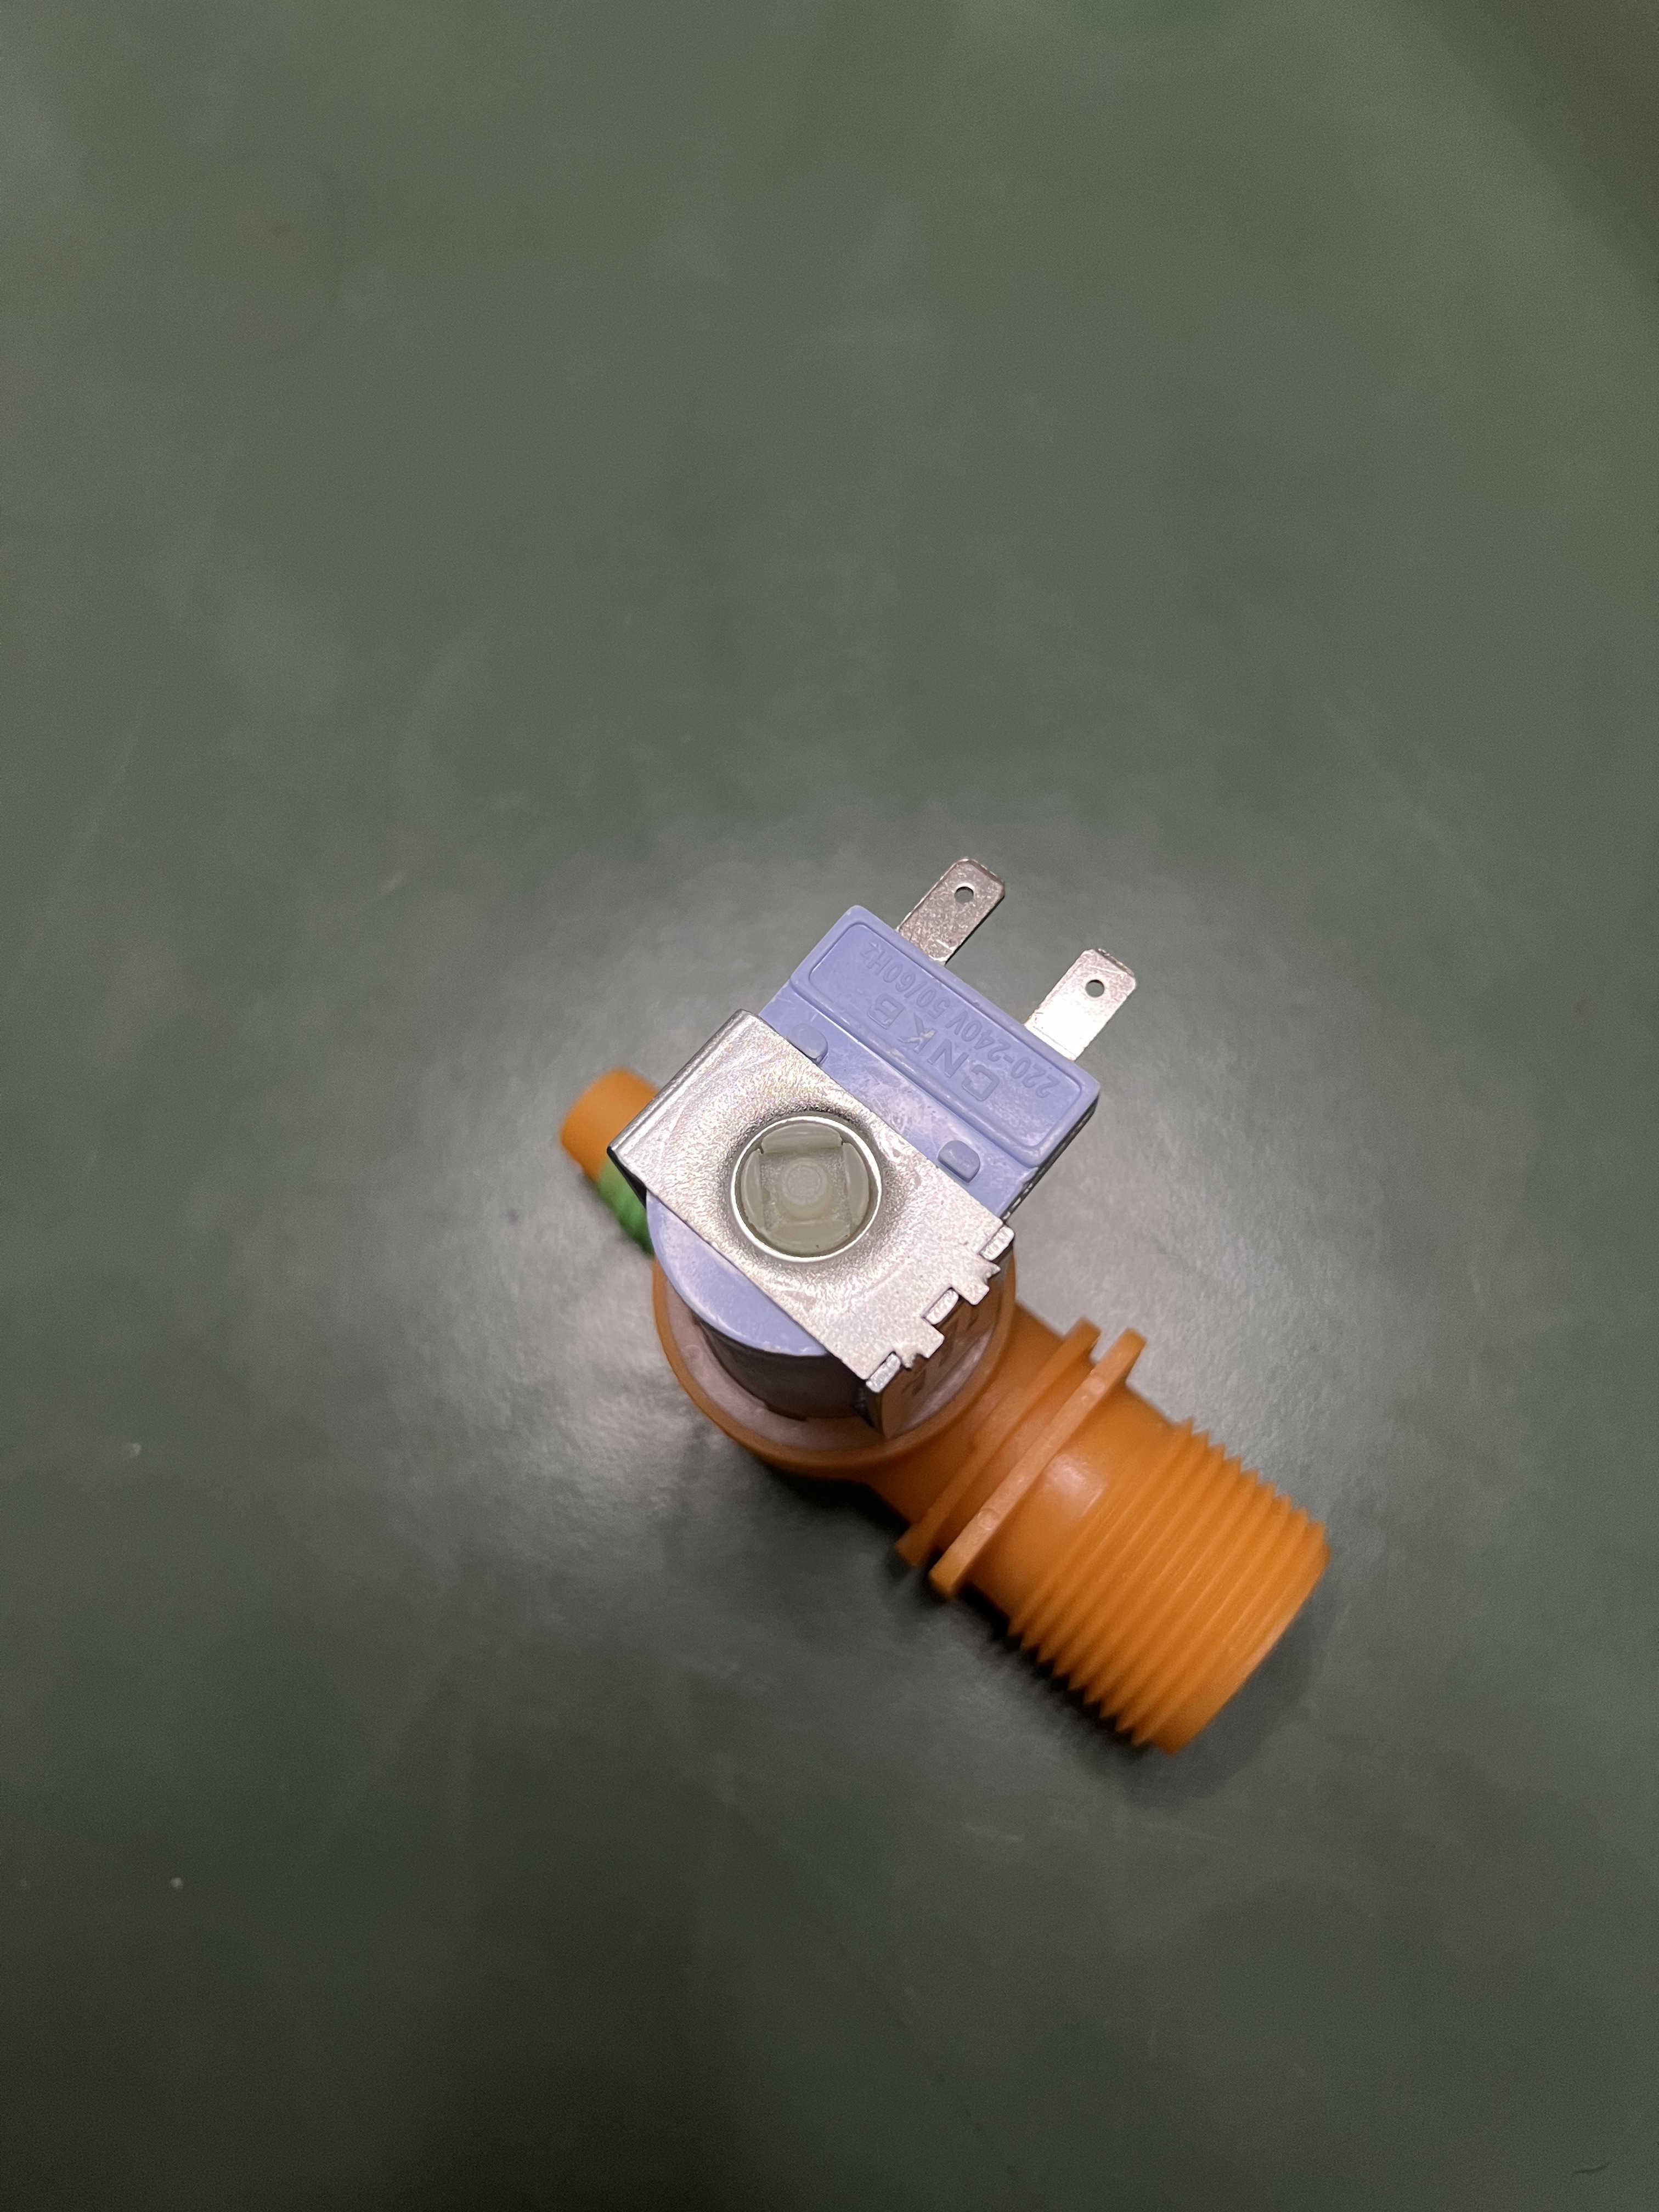ss_inlet_valves: (490, 836, 1413, 1743)
